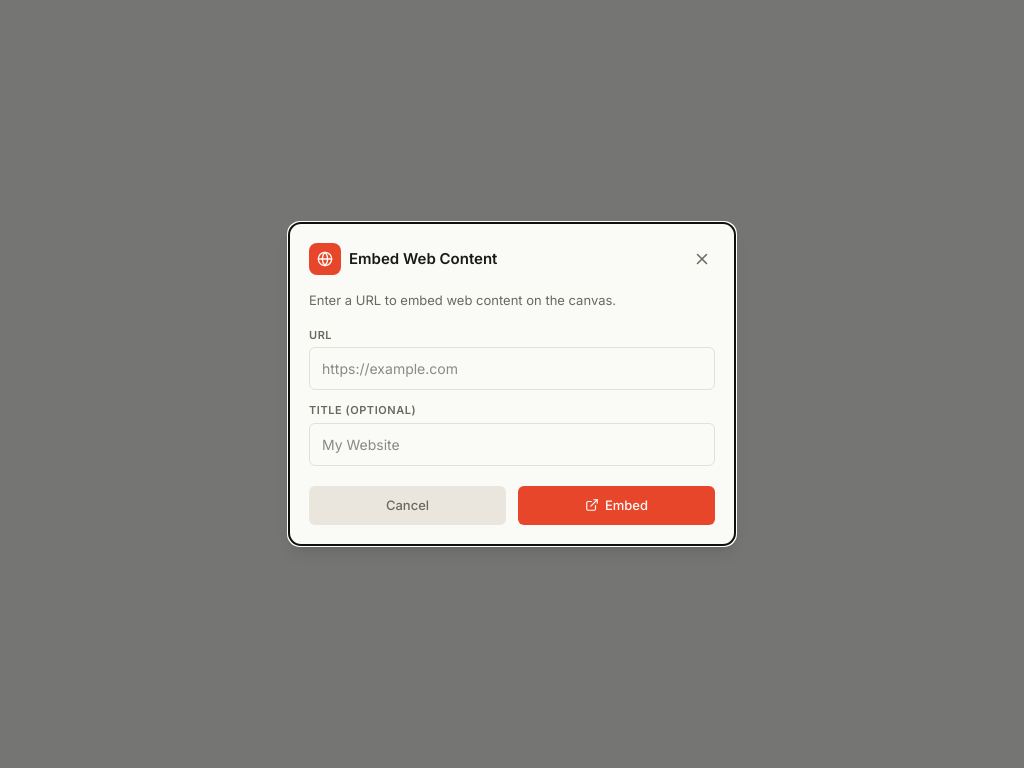
EmbedUrlModal › refuses an empty URL without submitting
The width and height of the screenshot is (1024, 768).
Click the button "Embed".
click(616, 505)  # box [518,486,715,525]
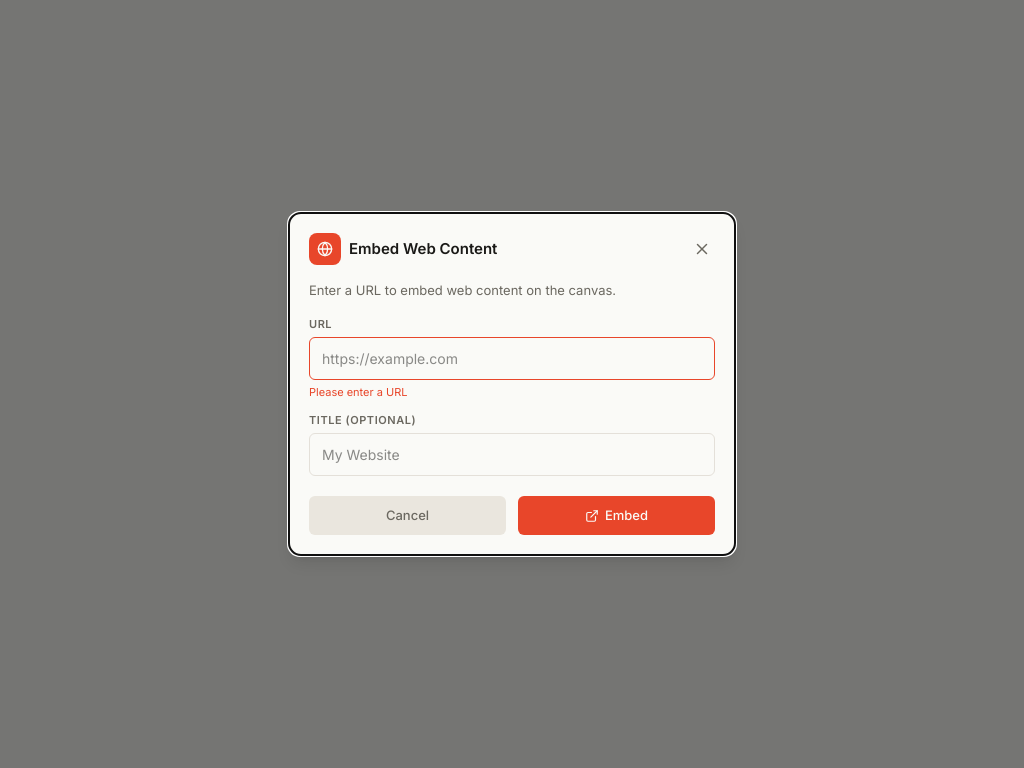
Check: the text "Please enter a URL" is shown, box [309,385,408,399]
